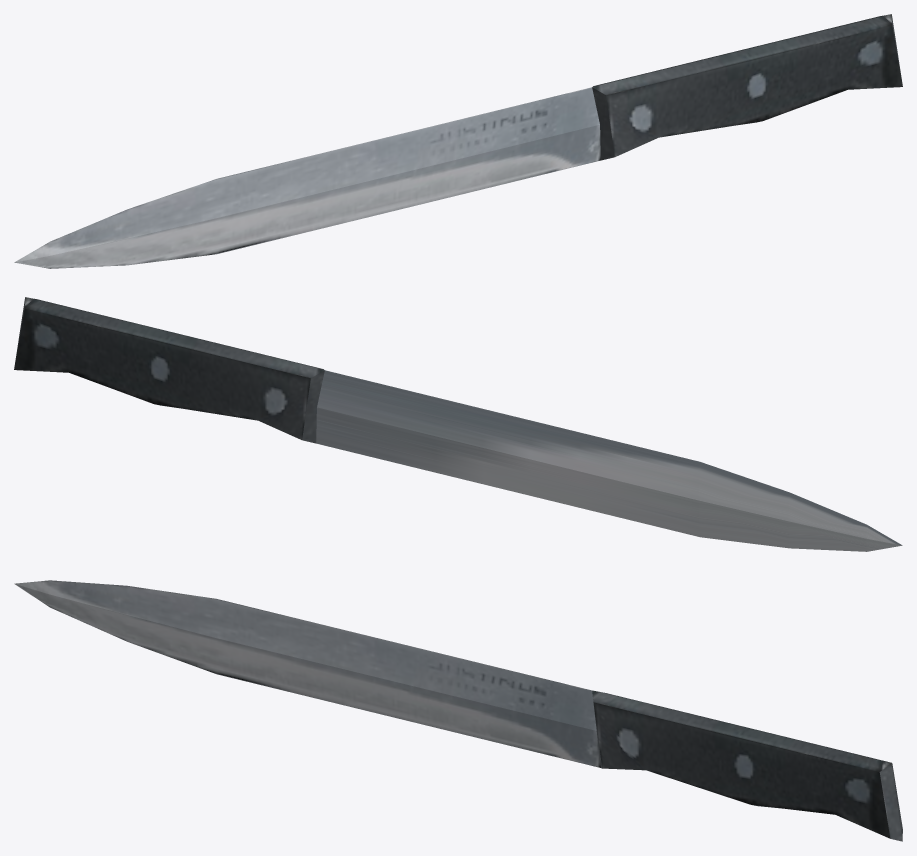
File: BreadKnife01.obj
3 views of the same model, one above another, from view 1: azimuth 30°, elevation 25°; view 2: azimuth 150°, elevation 25°; view 3: azimuth 330°, elevation 25° (orthographic).
Visible parts, largest first — view 1: BreadKnife01; view 2: BreadKnife01; view 3: BreadKnife01.
Boxes of the visible parts, x1,y1,x2,y2 form: BreadKnife01: (14, 14, 902, 268); BreadKnife01: (14, 297, 902, 551); BreadKnife01: (14, 580, 902, 841).
Size of the model in its own units: 5 by 0.4062 by 0.1231.
